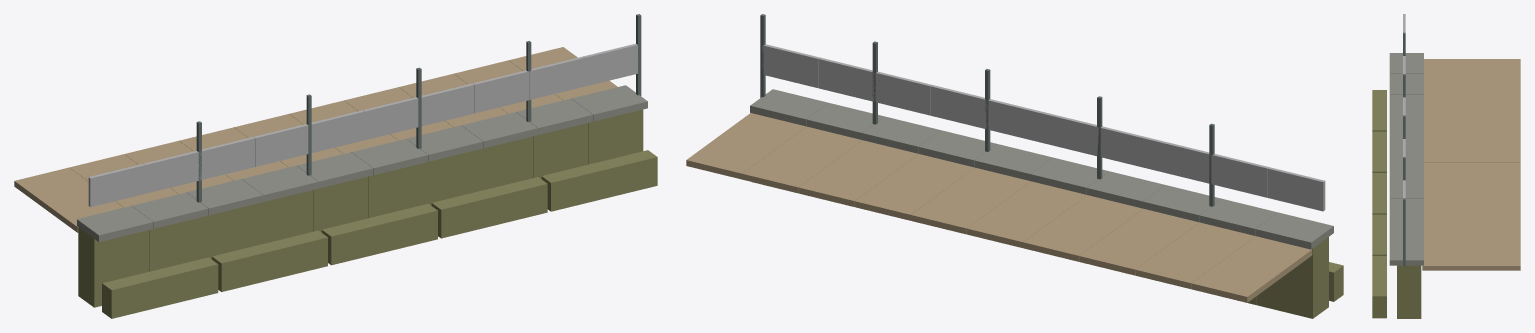
File: SM_MuroRampa_v1_BajoValla_e0_Sano_LOD1.fbx
The picture shows the model from 3 angles, left to right: view 1: azimuth 30°, elevation 25°; view 2: azimuth 150°, elevation 25°; view 3: azimuth 270°, elevation 25°; orthographic projection. The views are drawn at different scales.
Parts seen in each view (by area): view 1: SM_muro_rampa_v4_LOD1; view 2: SM_muro_rampa_v4_LOD1; view 3: SM_muro_rampa_v4_LOD1.
Part boxes in pixels (box(x1,y1,x2,y2)): SM_muro_rampa_v4_LOD1: box(14, 14, 657, 318); SM_muro_rampa_v4_LOD1: box(686, 14, 1343, 318); SM_muro_rampa_v4_LOD1: box(1372, 14, 1520, 318).
Size of the model in its own units: 10.03 by 2.7 by 3.02.
